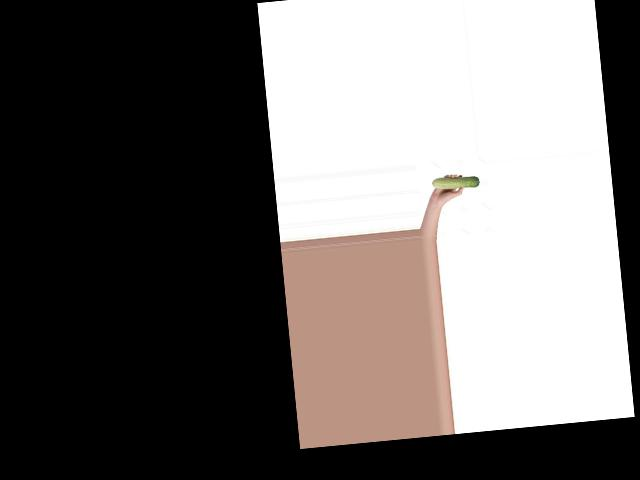cucumber: (431, 174, 480, 192)
